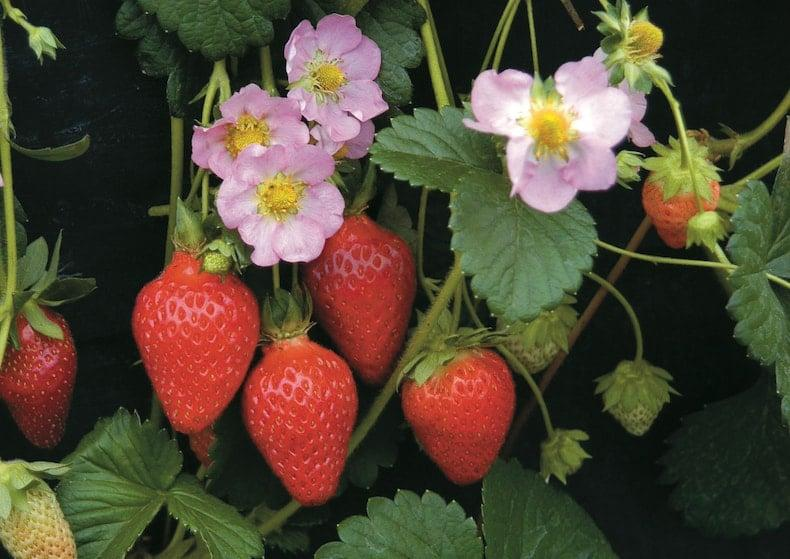strawberry: (132, 212, 260, 432), (237, 291, 362, 509), (396, 315, 530, 490), (303, 211, 432, 385), (1, 298, 93, 451)
